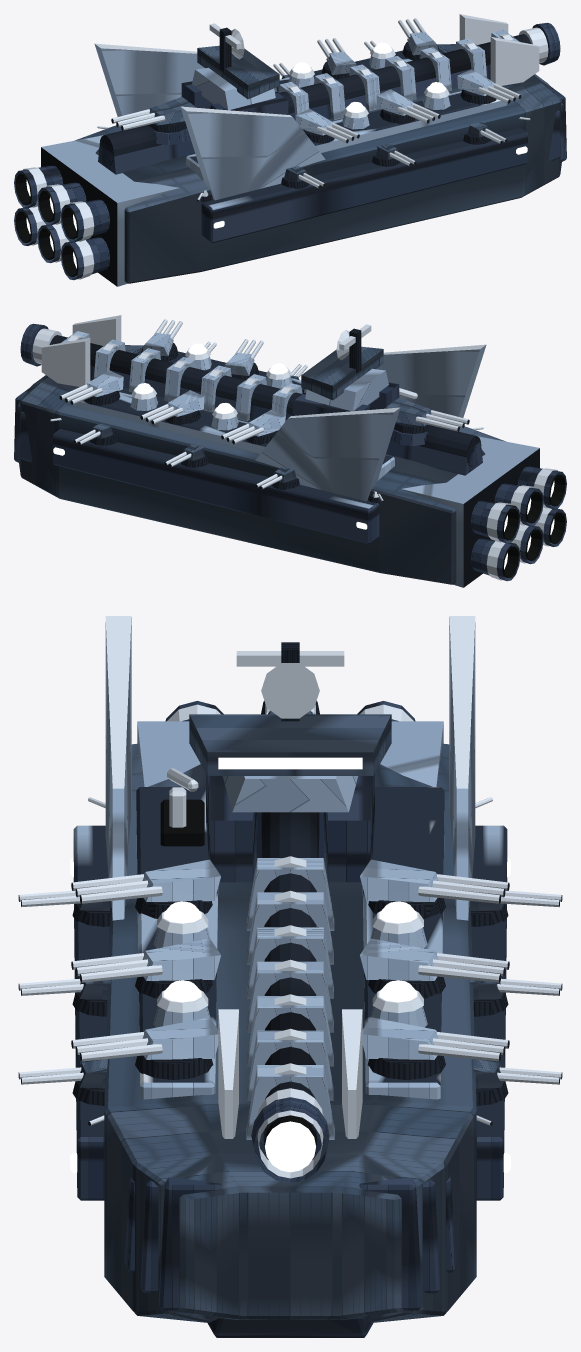
The model's file is battleship.glb.
3 views of the same model, one above another, from view 1: azimuth 30°, elevation 25°; view 2: azimuth 150°, elevation 25°; view 3: azimuth 270°, elevation 25° (orthographic). The views are drawn at different scales.
Visible parts, largest first — view 1: hull_body, weapon_mounts, engine_block, sensor_tower, shield_domes; view 2: hull_body, weapon_mounts, engine_block, sensor_tower, shield_domes; view 3: hull_body, weapon_mounts, sensor_tower, shield_domes, engine_block.
Boxes of the visible parts, x1,y1,x2,y2 form: hull_body: [75, 14, 566, 283]; weapon_mounts: [97, 18, 560, 201]; engine_block: [14, 135, 178, 286]; sensor_tower: [181, 23, 288, 114]; shield_domes: [288, 42, 450, 129]; hull_body: [14, 315, 505, 584]; weapon_mounts: [20, 319, 483, 502]; engine_block: [402, 436, 566, 587]; sensor_tower: [292, 324, 399, 415]; shield_domes: [130, 343, 292, 430]; hull_body: [70, 616, 510, 1337]; weapon_mounts: [18, 701, 562, 1183]; sensor_tower: [189, 642, 391, 882]; shield_domes: [153, 901, 427, 1027]; engine_block: [137, 701, 443, 786].
Size of the model in its own units: 60 by 22.66 by 27.98.
1 material, 1 textured.
